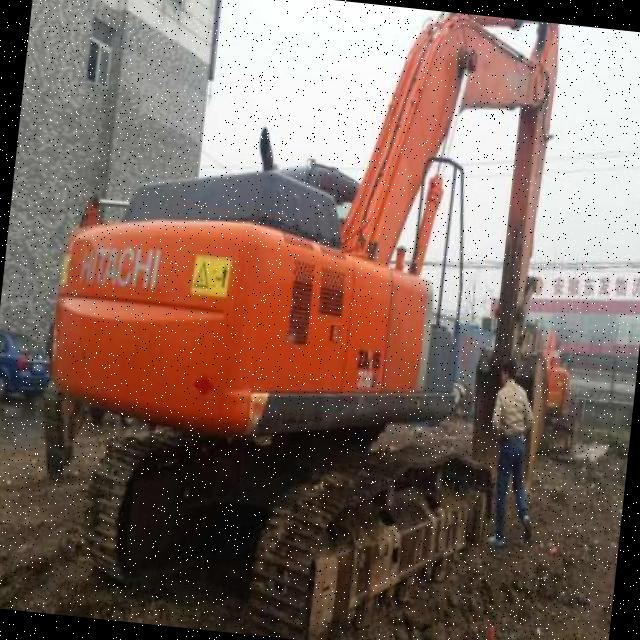Excavator: (20, 0, 585, 640)
